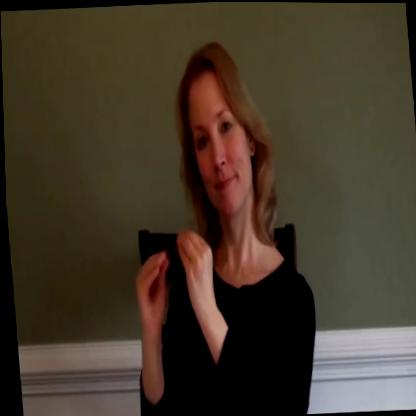Fix: (122, 206, 217, 347)
